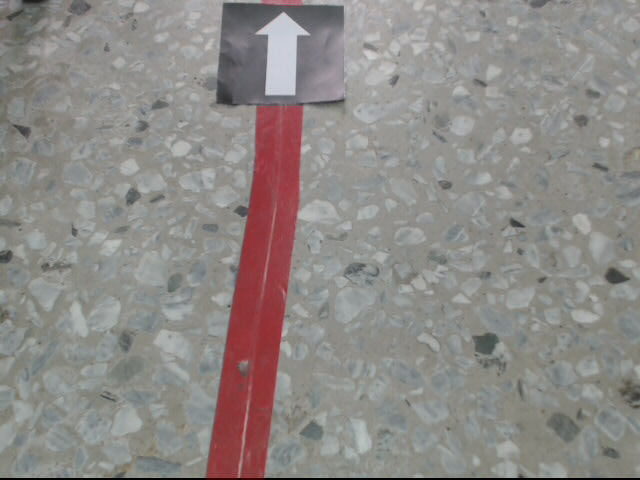right: (215, 4, 349, 106)
